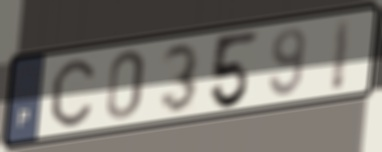0: (103, 47, 148, 125)
3: (159, 39, 202, 114)
5: (206, 27, 263, 110)
9: (265, 26, 309, 99)
C: (49, 56, 97, 129)
I: (327, 15, 355, 95)
